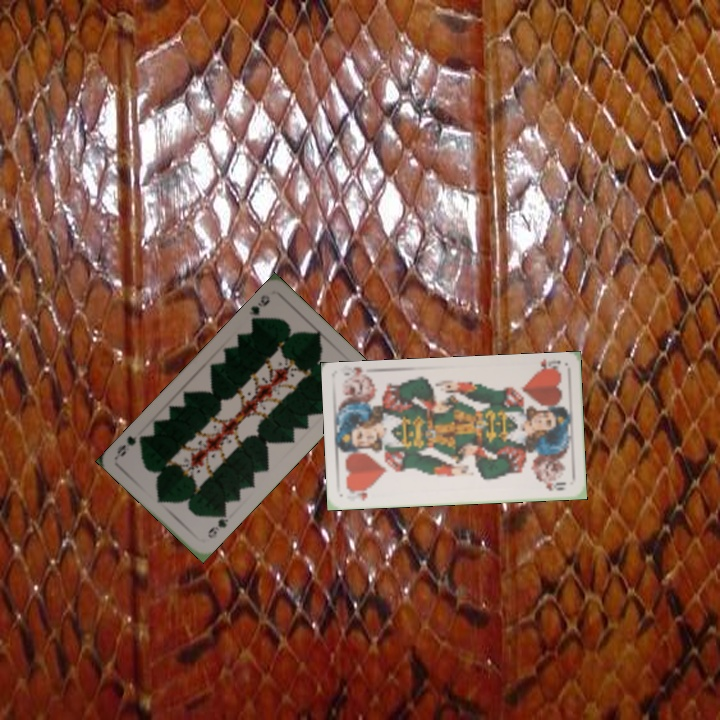G9: (245, 291, 272, 327), (203, 507, 231, 541)
HO: (529, 356, 564, 376), (342, 484, 375, 504)
